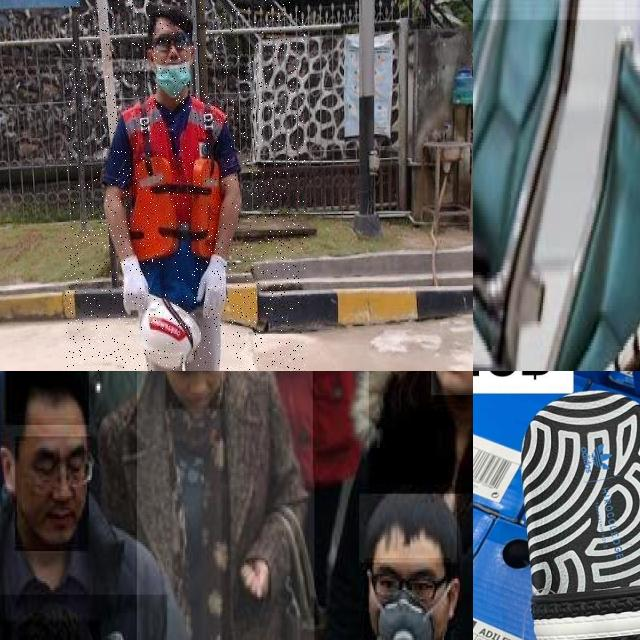No_Ear-Protection: (444, 576, 462, 622)
Sandals: (480, 371, 640, 640)
face_mask: (365, 557, 450, 640)
face_nomask: (15, 436, 89, 551), (165, 371, 224, 411)
glasses: (366, 562, 445, 604), (30, 455, 95, 496)
head_helmet: (136, 291, 201, 371)
head_nohelmet: (359, 493, 457, 562), (5, 371, 90, 427), (2, 620, 99, 640)
person: (64, 0, 305, 371), (0, 371, 223, 640), (473, 20, 640, 371), (136, 371, 314, 640), (301, 480, 473, 640), (369, 371, 473, 496)
vest: (118, 102, 229, 313)
